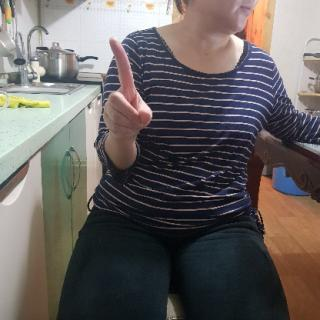BAA: (104, 34, 154, 138)
